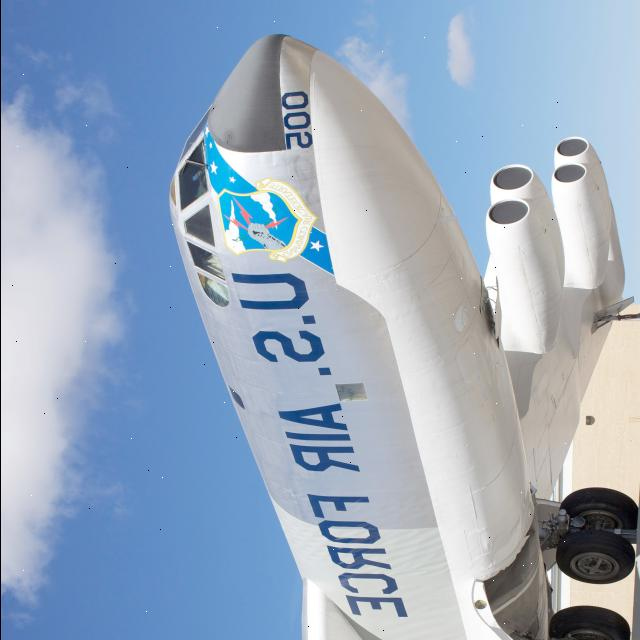B52: (105, 24, 634, 640)
